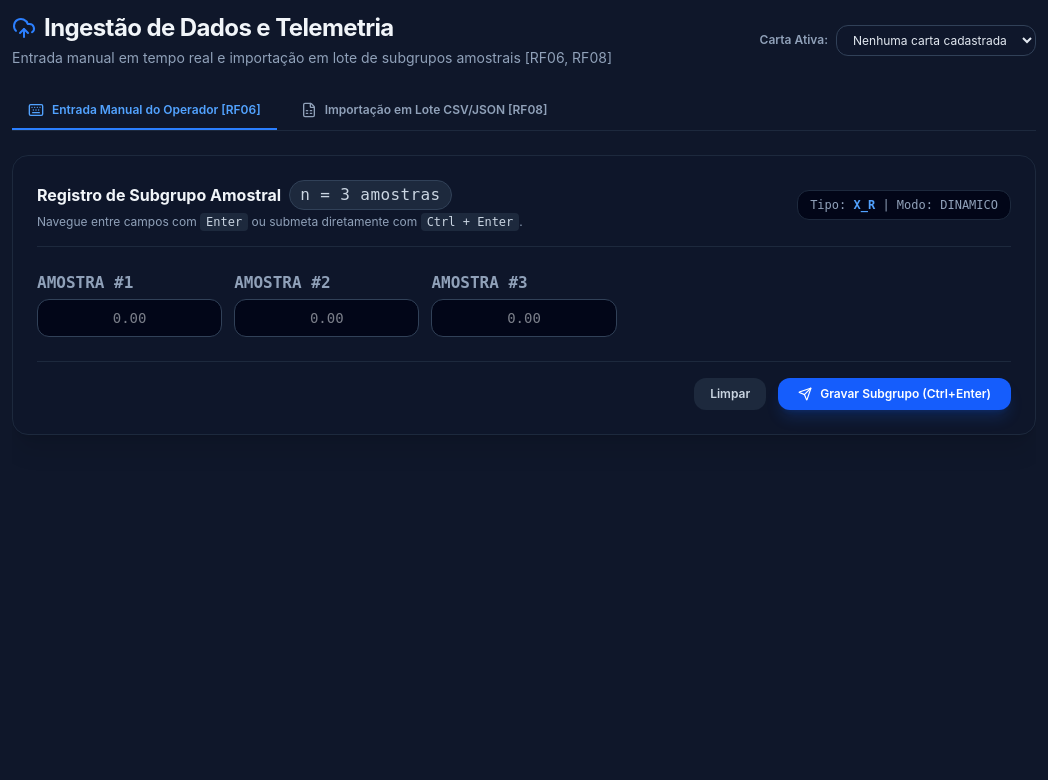
Test: IngestaoPage › deve exibir alerta crítico e badge de anomalia quando subgrupo violar regras [RF06]
Type "10.8" into the field labelled "Amostra #1".
click(130, 318); type("10.8")  # box 37,299 -> 222,337
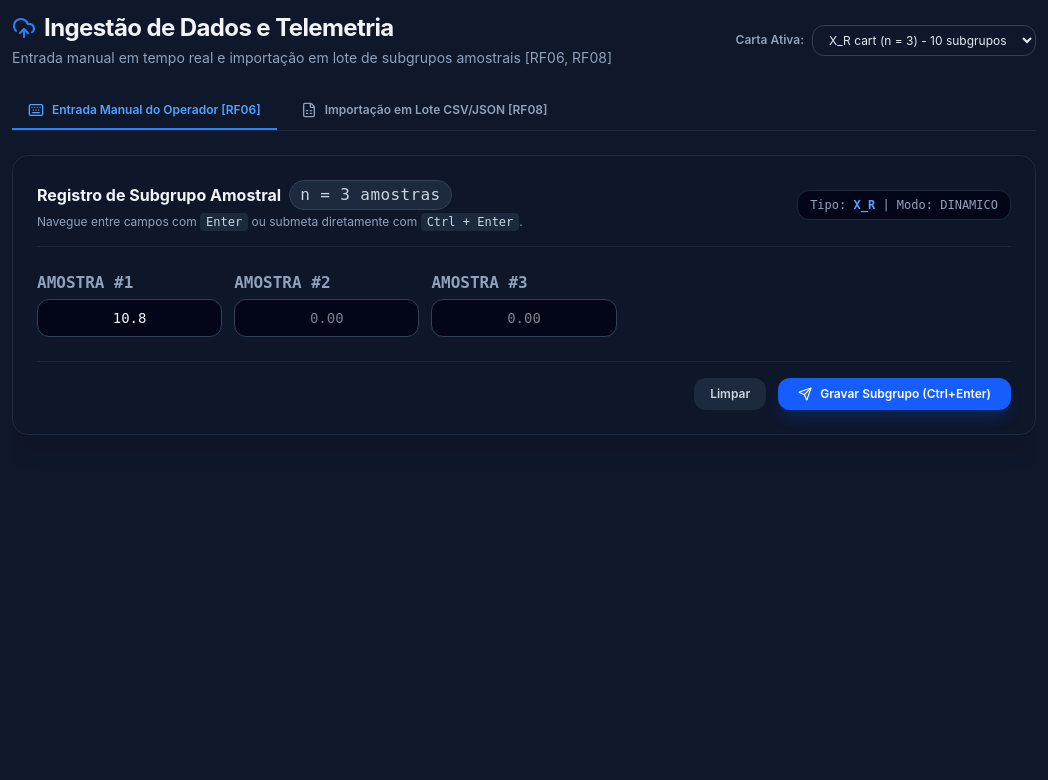
Type "10.9" into the field labelled "Amostra #2".
click(327, 318); type("10.9")  # box 234,299 -> 419,337
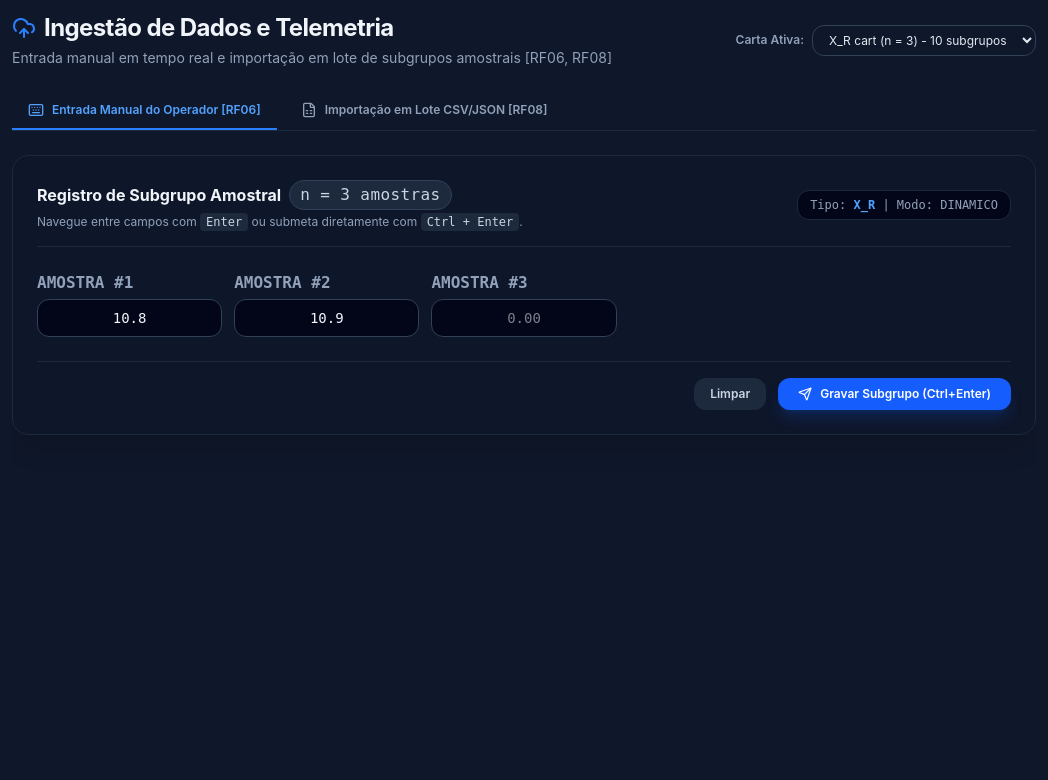
Type "10.7" into the field labelled "Amostra #3".
click(524, 318); type("10.7")  # box 431,299 -> 617,337
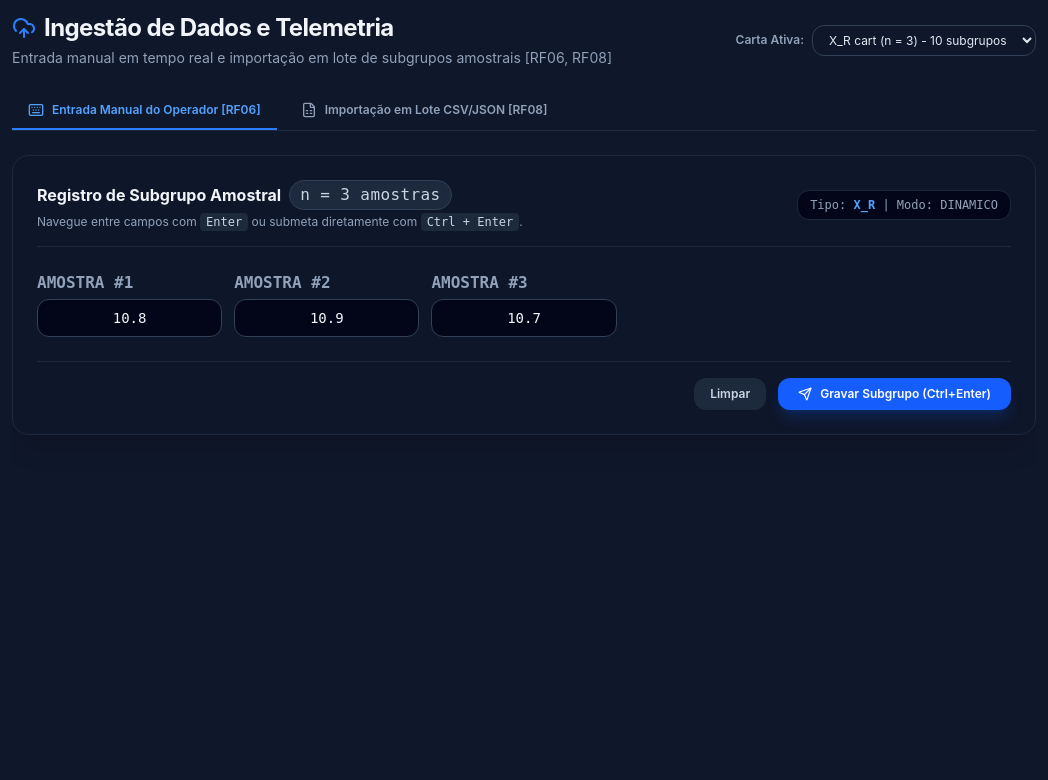
Press Enter in the field labelled "Amostra #3", box 431,299 -> 617,337
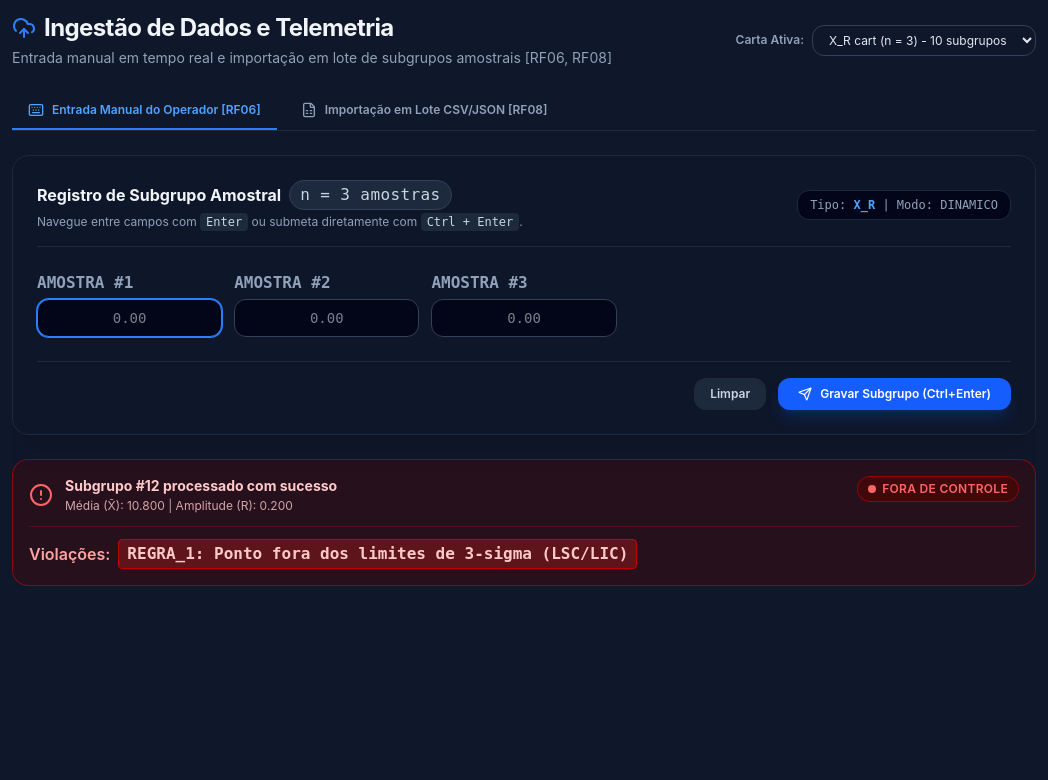
expect the text "FORA DE CONTROLE" is shown: met, box 857,476 -> 1019,502
expect the text "REGRA_1: Ponto fora dos limites de 3-sigma (LSC/LIC)" is shown: met, box 118,539 -> 637,569
